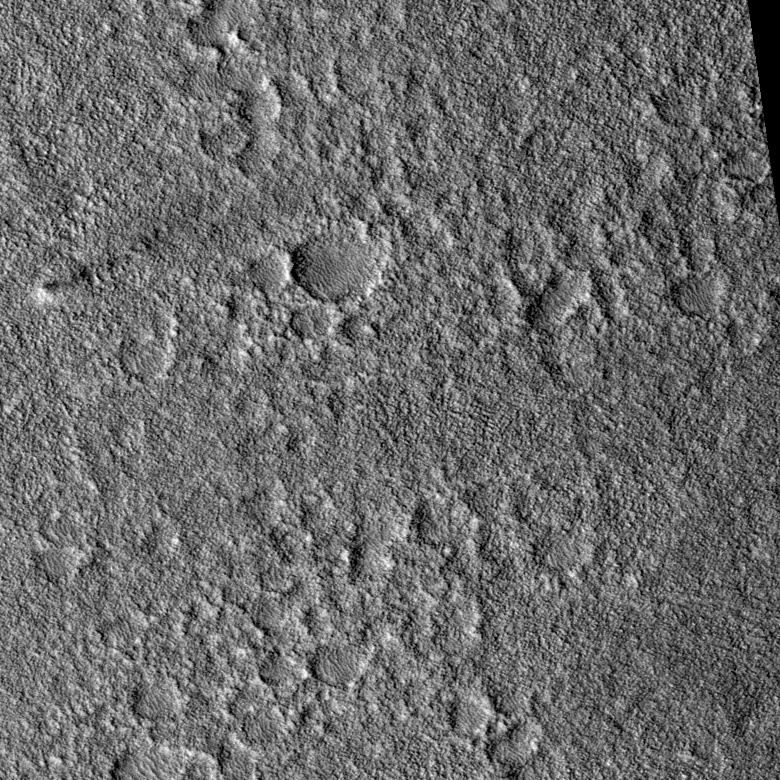dust_devil: (31, 248, 128, 307)
